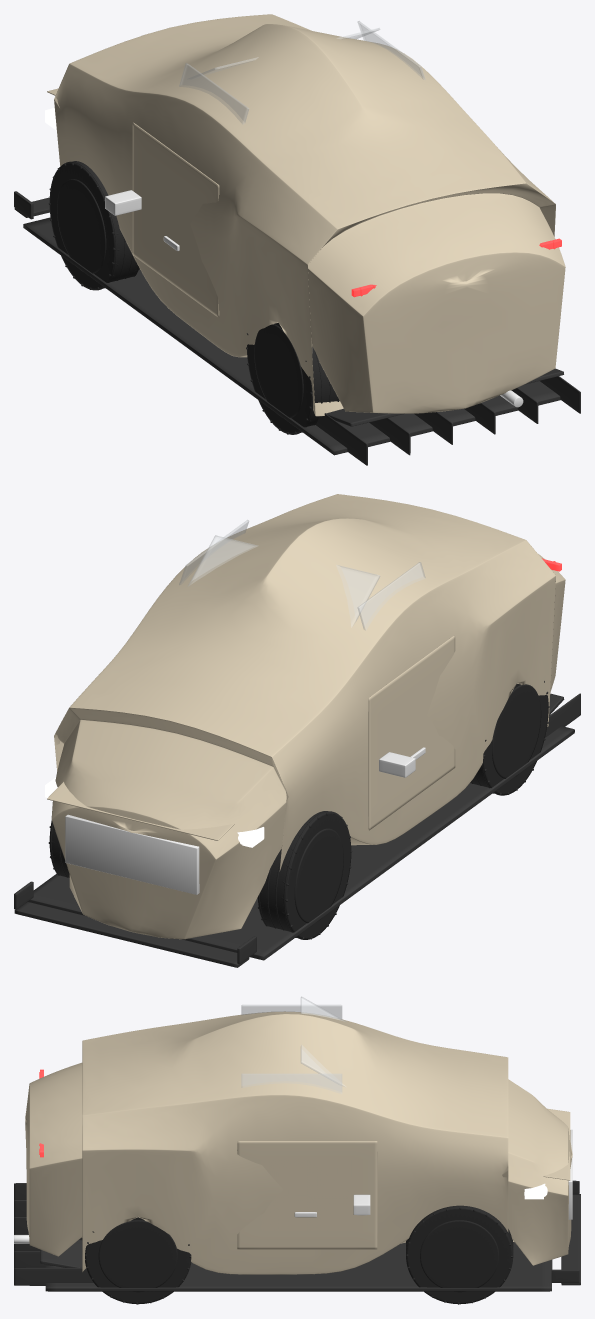
The model's file is vehicle.opt.glb.
The picture shows the model from 3 angles, top to bottom: view 1: azimuth 30°, elevation 25°; view 2: azimuth 150°, elevation 25°; view 3: azimuth 270°, elevation 25°; orthographic projection. The views are drawn at different scales.
Parts seen in each view (by area): view 1: BODY_MainShell, UNDERBODY_FlatFloor, BODY_Door_FL, WHEEL_FL_Tire, WHEEL_RL_Tire, GLASS_Greenhouse, JEWELRY_Hardware, AERO_FrontSplitter; view 2: BODY_MainShell, BODY_Door_FL, UNDERBODY_FlatFloor, WHEEL_FL_Tire, JEWELRY_FJ40_FrontBezel, WHEEL_RL_Tire, GLASS_Greenhouse, AERO_FrontSplitter, BODY_Hood, JEWELRY_Hardware, WHEEL_FR_Tire; view 3: BODY_MainShell, BODY_Door_FR, UNDERBODY_FlatFloor, WHEEL_FR_Tire, WHEEL_RR_Tire, GLASS_Greenhouse, AERO_FrontSplitter, BODY_Hood, JEWELRY_Hardware.
Boxes of the visible parts, <box> form: BODY_MainShell: <box>54,14,565,416</box>; UNDERBODY_FlatFloor: <box>23,217,580,465</box>; BODY_Door_FL: <box>132,122,219,317</box>; WHEEL_FL_Tire: <box>48,161,139,290</box>; WHEEL_RL_Tire: <box>246,323,339,434</box>; GLASS_Greenhouse: <box>179,21,425,124</box>; JEWELRY_Hardware: <box>105,190,179,251</box>; AERO_FrontSplitter: <box>14,191,49,219</box>; BODY_MainShell: <box>51,494,565,939</box>; BODY_Door_FL: <box>368,635,455,830</box>; UNDERBODY_FlatFloor: <box>28,693,580,960</box>; WHEEL_FL_Tire: <box>257,811,352,939</box>; JEWELRY_FJ40_FrontBezel: <box>65,814,199,894</box>; WHEEL_RL_Tire: <box>470,681,549,795</box>; GLASS_Greenhouse: <box>179,520,425,630</box>; AERO_FrontSplitter: <box>14,881,256,967</box>; BODY_Hood: <box>47,781,234,840</box>; JEWELRY_Hardware: <box>379,747,425,777</box>; WHEEL_FR_Tire: <box>48,820,69,877</box>; BODY_MainShell: <box>25,1011,572,1274</box>; BODY_Door_FR: <box>237,1141,377,1249</box>; UNDERBODY_FlatFloor: <box>14,1183,552,1291</box>; WHEEL_FR_Tire: <box>406,1205,513,1304</box>; WHEEL_RR_Tire: <box>85,1217,191,1304</box>; GLASS_Greenhouse: <box>241,996,345,1093</box>; AERO_FrontSplitter: <box>551,1180,580,1285</box>; BODY_Hood: <box>543,1108,570,1180</box>; JEWELRY_Hardware: <box>294,1194,370,1217</box>.
Size of what is drawn, in the model's own units: 2.02 by 1.92 by 4.04.
